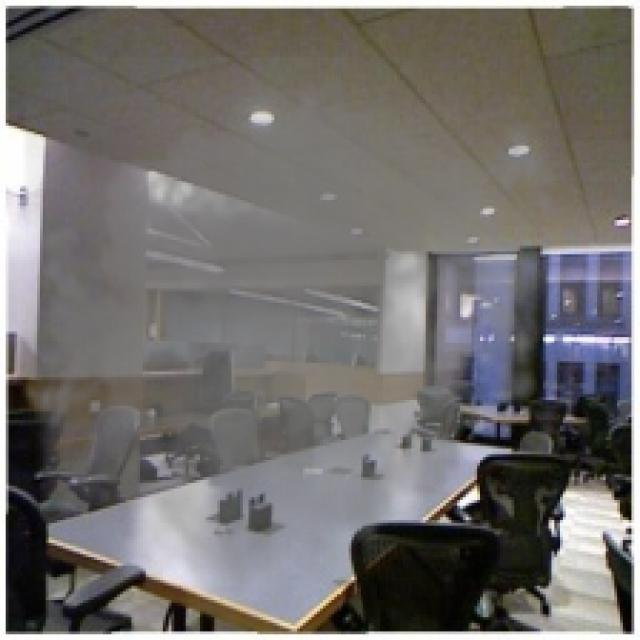smoke: (12, 57, 574, 623)
